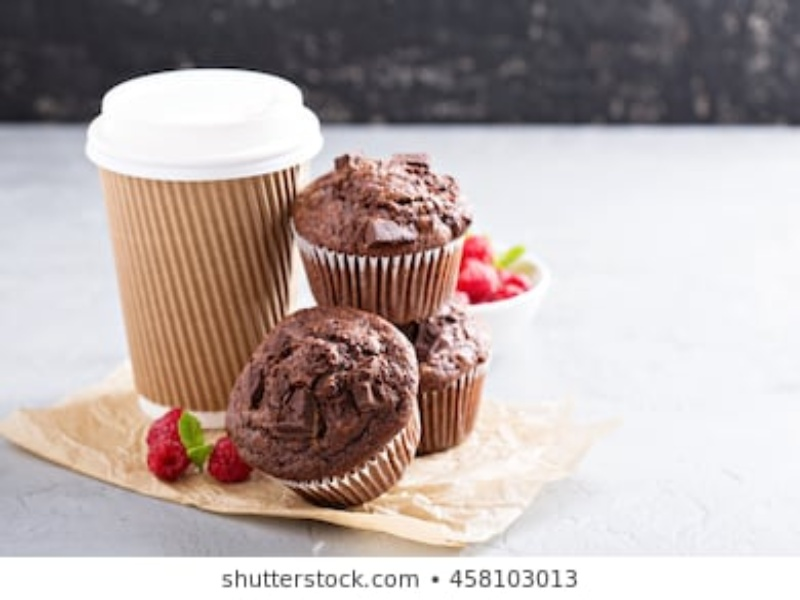coffee-lid: (82, 67, 324, 178)
plastic-cup: (80, 70, 314, 430)
